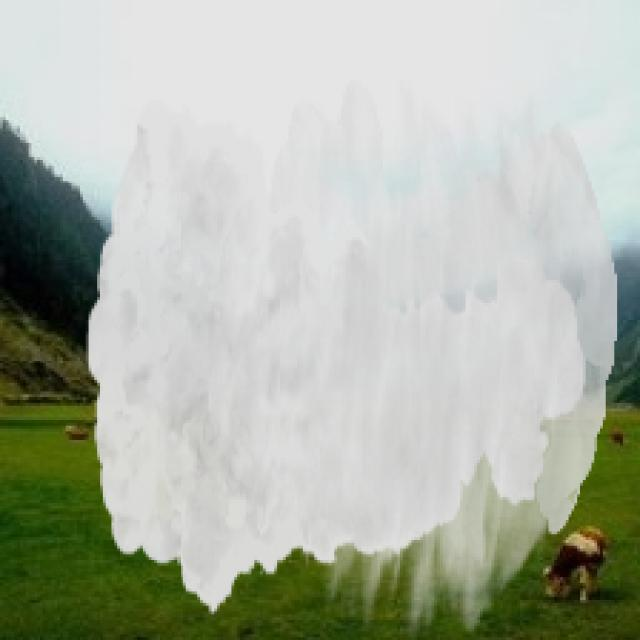smoke: (86, 80, 617, 637)
